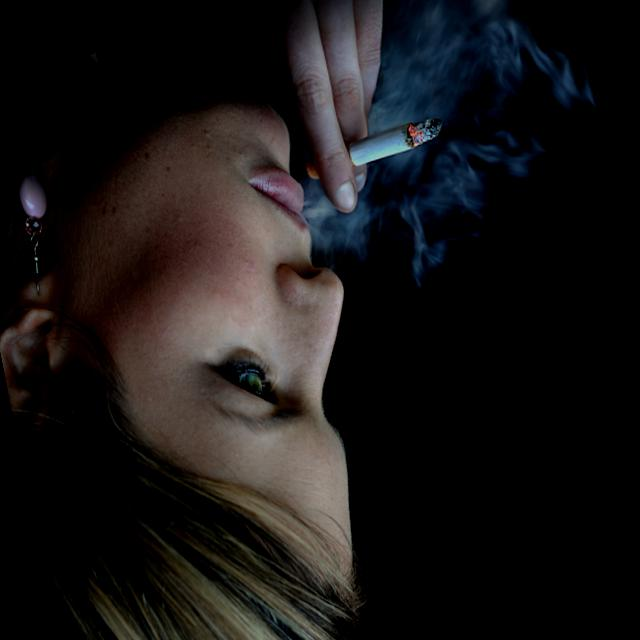smoke: (342, 105, 448, 182)
